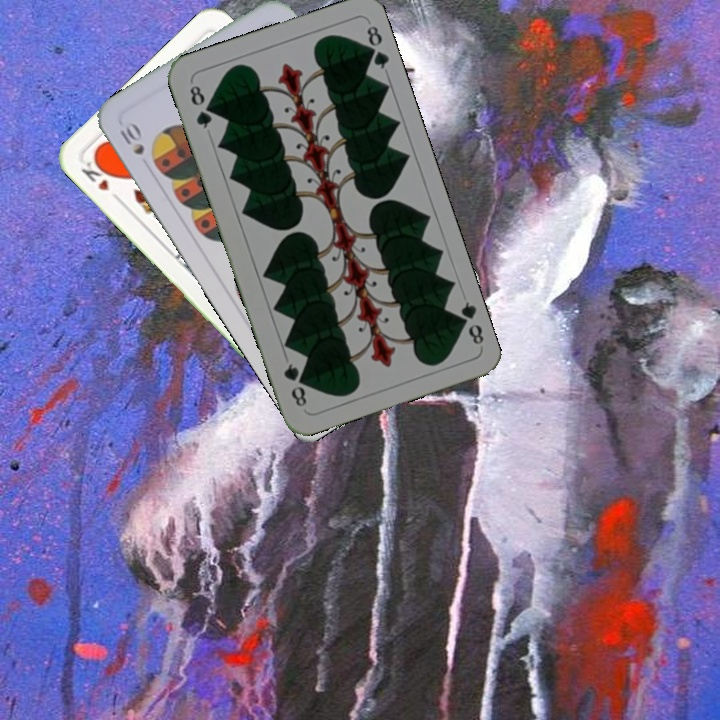G8: (451, 297, 487, 347), (185, 81, 215, 132)
HK: (77, 154, 125, 206)
S10: (114, 117, 147, 158)
